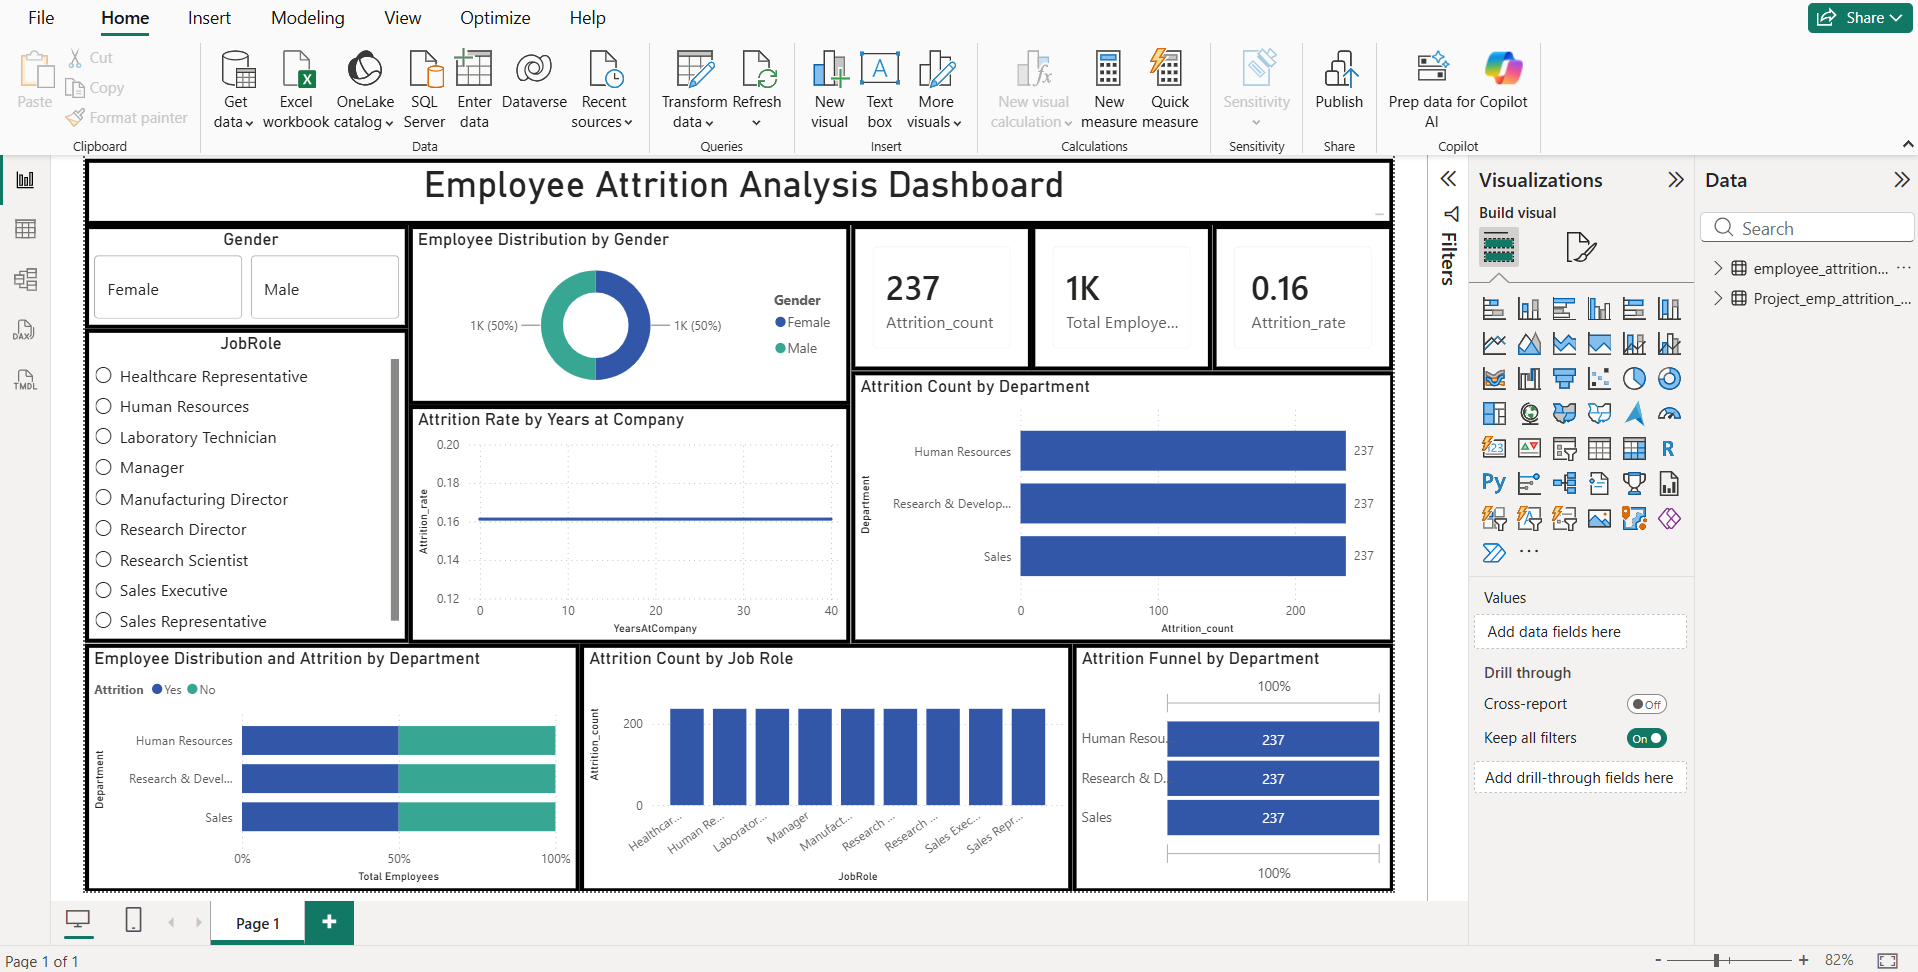

Layout of this report page (visuals, bound fields, positions):
{"tool":"powerbi","page":{"name":"Page 1","canvas":[1280,720],"ordinal":0},"visuals":[{"type":"cardVisual","fields":{"Data":["employee_attrition_cleaned.Total Employees"]},"box":[926.2,68.6,177,142.7],"z":0},{"type":"cardVisual","fields":{"Data":["employee_attrition_cleaned.Attrition_count"]},"box":[749.2,68.6,177,142.7],"z":1000},{"type":"cardVisual","fields":{"Data":["employee_attrition_cleaned.Attrition_rate"]},"box":[1103.3,68.6,177,142.7],"z":2000},{"type":"advancedSlicerVisual","fields":{"Values":["Project_emp_attrition_dataset.Gender"]},"box":[0,68.6,317,101.5],"z":3000},{"type":"listSlicer","fields":{"Values":["Project_emp_attrition_dataset.JobRole"]},"box":[0,170.2,317,307.4],"z":4000},{"type":"donutChart","title":"Employee Distribution by Gender","fields":{"Category":["Project_emp_attrition_dataset.Gender"],"Y":["employee_attrition_cleaned.Total Employees"]},"box":[317,68.6,432.2,175.6],"z":5000},{"type":"clusteredBarChart","title":"Attrition Count by Department","fields":{"Category":["Project_emp_attrition_dataset.Department"],"Y":["employee_attrition_cleaned.Attrition_count"]},"box":[749.2,211.3,531,266.2],"z":6000},{"type":"clusteredColumnChart","title":"Attrition Count by Job Role","fields":{"Category":["Project_emp_attrition_dataset.JobRole"],"Y":["employee_attrition_cleaned.Attrition_count"]},"box":[484.4,477.5,481.6,242.9],"z":7000},{"type":"lineChart","title":"Attrition Rate by Years at Company","fields":{"Category":["Project_emp_attrition_dataset.YearsAtCompany"],"Y":["employee_attrition_cleaned.Attrition_rate"]},"box":[317,244.3,432.2,233.3],"z":8000},{"type":"hundredPercentStackedBarChart","title":"Employee Distribution and Attrition by Department","fields":{"Category":["Project_emp_attrition_dataset.Department"],"Series":["Project_emp_attrition_dataset.Attrition"],"Y":["employee_attrition_cleaned.Total Employees"]},"box":[0,477.5,484.4,242.9],"z":9000},{"type":"textbox","title":"Employee Attrition Analysis Dashboard","box":[0,4.1,1280.3,64.5],"z":10000},{"type":"funnel","title":"Attrition Funnel by Department","fields":{"Category":["Project_emp_attrition_dataset.Department"],"Y":["employee_attrition_cleaned.Attrition_count"]},"box":[966,477.5,314.2,242.9],"z":11000}]}

Visuals, with their boxes on the page's 1280x720 design canvas (x1, y1, x2, y2). These are canvas units, not pixel positions in the 1918x972 screenshot, which may show the page scaled, cropped or inside an application window:
cardVisual - employee_attrition_cleaned.Total Employees: (left=926, top=69, right=1103, bottom=211)
cardVisual - employee_attrition_cleaned.Attrition_count: (left=749, top=69, right=926, bottom=211)
cardVisual - employee_attrition_cleaned.Attrition_rate: (left=1103, top=69, right=1280, bottom=211)
advancedSlicerVisual - Project_emp_attrition_dataset.Gender: (left=0, top=69, right=317, bottom=170)
listSlicer - Project_emp_attrition_dataset.JobRole: (left=0, top=170, right=317, bottom=478)
"Employee Distribution by Gender" donutChart: (left=317, top=69, right=749, bottom=244)
"Attrition Count by Department" clusteredBarChart: (left=749, top=211, right=1280, bottom=478)
"Attrition Count by Job Role" clusteredColumnChart: (left=484, top=478, right=966, bottom=720)
"Attrition Rate by Years at Company" lineChart: (left=317, top=244, right=749, bottom=478)
"Employee Distribution and Attrition by Department" hundredPercentStackedBarChart: (left=0, top=478, right=484, bottom=720)
"Employee Attrition Analysis Dashboard" textbox: (left=0, top=4, right=1280, bottom=69)
"Attrition Funnel by Department" funnel: (left=966, top=478, right=1280, bottom=720)
